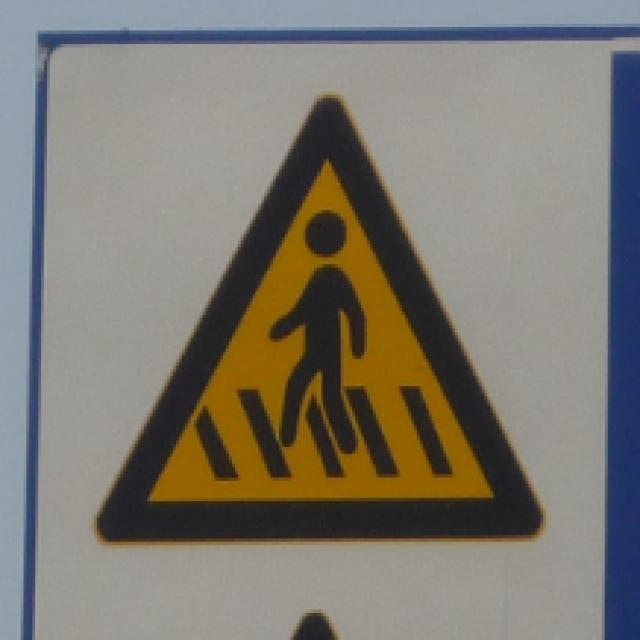Crossing: (88, 98, 551, 553)
